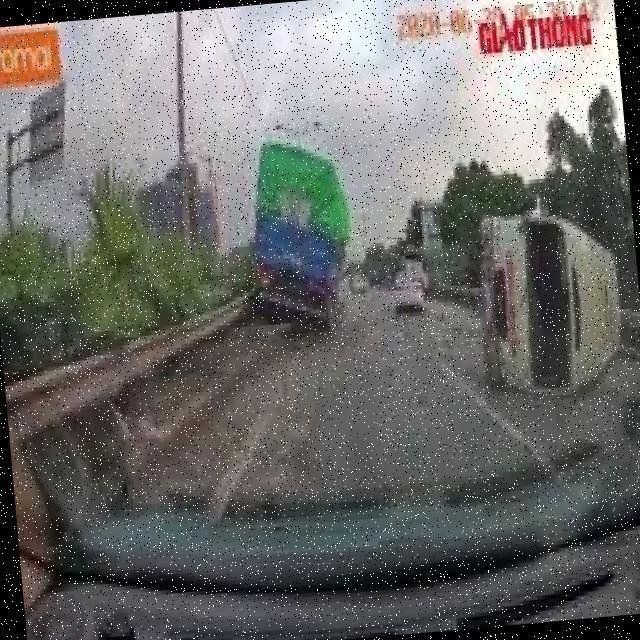accident: (461, 157, 640, 418)
